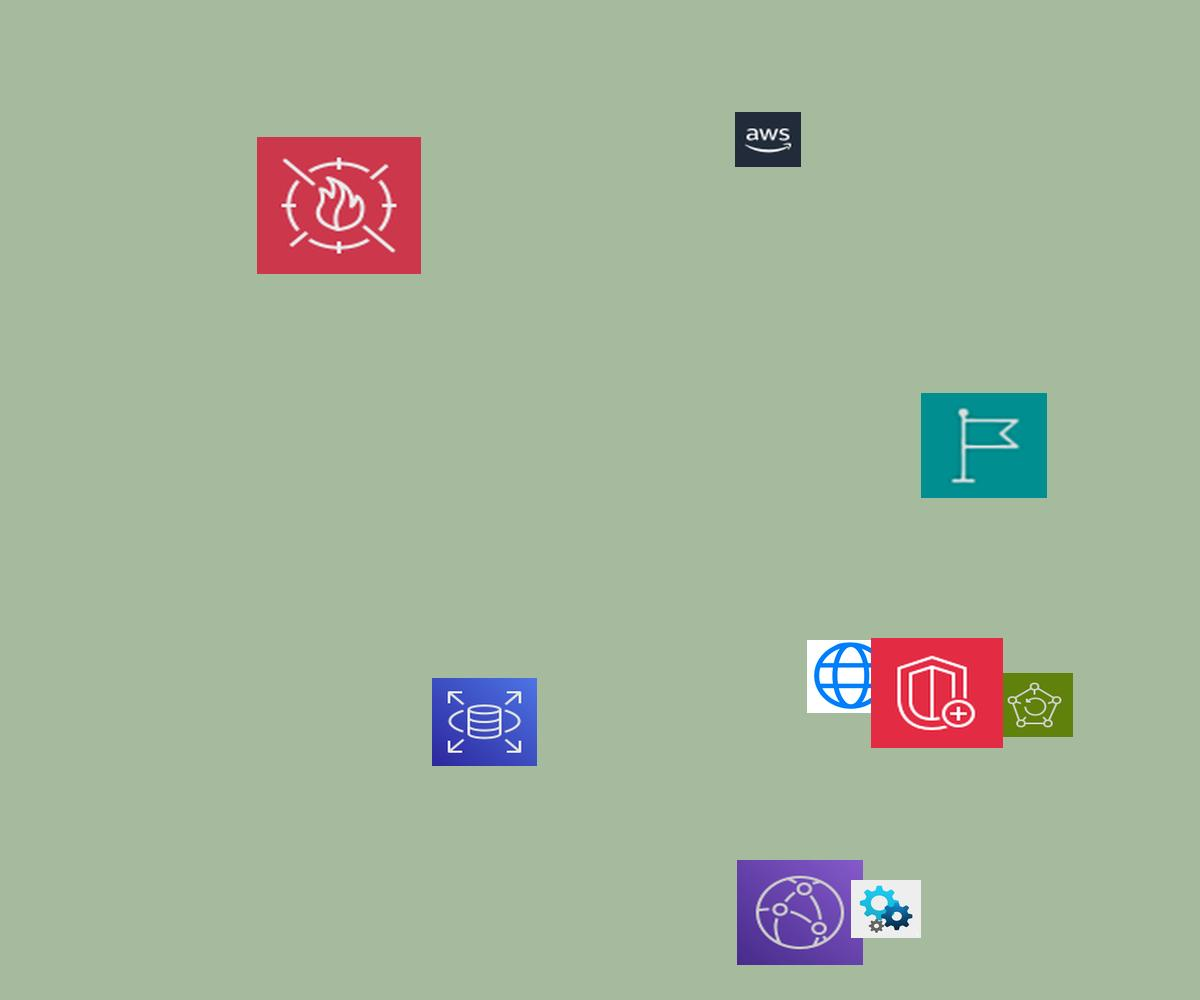AWS-Backup: (996, 673, 1073, 737)
AWS-Cloud-logo: (735, 112, 801, 167)
AWS-CloudFront: (737, 860, 863, 965)
AWS-RDS: (432, 678, 537, 766)
AWS-Region: (921, 393, 1047, 498)
AWS-Shield: (871, 638, 1003, 748)
AWS-WAF: (257, 137, 421, 274)
Azure_api: (851, 880, 921, 938)
Azure_http: (807, 640, 895, 713)
